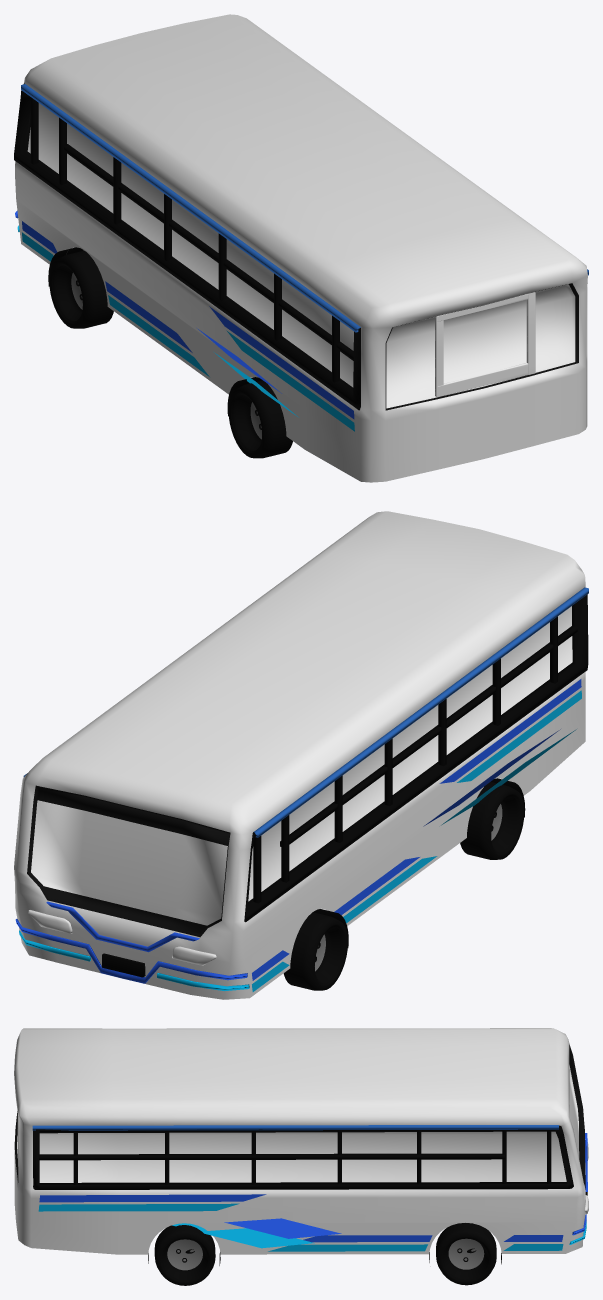
Rendered from tata.fbx.
3 renders of one model, top to bottom at view 1: azimuth 30°, elevation 25°; view 2: azimuth 150°, elevation 25°; view 3: azimuth 270°, elevation 25°, orthographic. The views are drawn at different scales.
Visible parts, largest first — view 1: Cube.002, Cube.003, Cylinder.004, Cylinder.008, Cube.034, Cube.011, Plane.002, Cube.027, Plane.006, Plane.004, Cube.025, Plane (+1 smaller); view 2: Cube.002, Cube.003, Cylinder.004, Cylinder.008, Cube.034, Cube.011, Plane.002, Plane.006, Cube.033, Plane.004, Cube.028, Plane (+2 smaller); view 3: Cube.002, Cube.013, Cylinder.016, Cylinder.012, Cube.020, Cube.035, Plane.010, Plane.014, Plane.009, Plane.013, Plane.012, Plane.008 (+2 smaller).
Boxes of the visible parts, bbox=[...] form: Cube.002: bbox=[15, 14, 587, 482]; Cube.003: bbox=[14, 83, 360, 410]; Cylinder.004: bbox=[49, 250, 113, 328]; Cylinder.008: bbox=[228, 380, 292, 458]; Cube.034: bbox=[21, 84, 360, 332]; Cube.011: bbox=[64, 144, 353, 360]; Plane.002: bbox=[209, 306, 354, 419]; Cube.027: bbox=[437, 363, 528, 397]; Plane.006: bbox=[226, 330, 354, 431]; Plane.004: bbox=[108, 295, 209, 376]; Cube.025: bbox=[526, 292, 535, 374]; Plane: bbox=[105, 281, 192, 352]; Cube.002: bbox=[14, 511, 585, 999]; Cube.003: bbox=[244, 594, 588, 922]; Cylinder.004: bbox=[283, 912, 347, 990]; Cylinder.008: bbox=[460, 782, 524, 859]; Cube.034: bbox=[254, 587, 588, 837]; Cube.011: bbox=[280, 625, 577, 846]; Plane.002: bbox=[439, 679, 581, 783]; Plane.006: bbox=[457, 690, 581, 782]; Cube.033: bbox=[46, 901, 199, 952]; Plane.004: bbox=[343, 856, 437, 922]; Cube.028: bbox=[122, 961, 247, 983]; Plane: bbox=[334, 857, 419, 914]; Cube.002: bbox=[14, 1028, 585, 1254]; Cube.013: bbox=[33, 1125, 573, 1189]; Cylinder.016: bbox=[436, 1223, 496, 1285]; Cylinder.012: bbox=[154, 1225, 215, 1285]; Cube.020: bbox=[39, 1153, 504, 1160]; Cube.035: bbox=[32, 1125, 558, 1130]; Plane.010: bbox=[39, 1194, 266, 1202]; Plane.014: bbox=[38, 1203, 239, 1211]; Plane.009: bbox=[224, 1218, 341, 1238]; Plane.013: bbox=[172, 1223, 314, 1248]; Plane.012: bbox=[268, 1244, 427, 1251]; Plane.008: bbox=[303, 1235, 432, 1242].
Bounding box in the file's own units: 1911 × 1497 × 4456.
